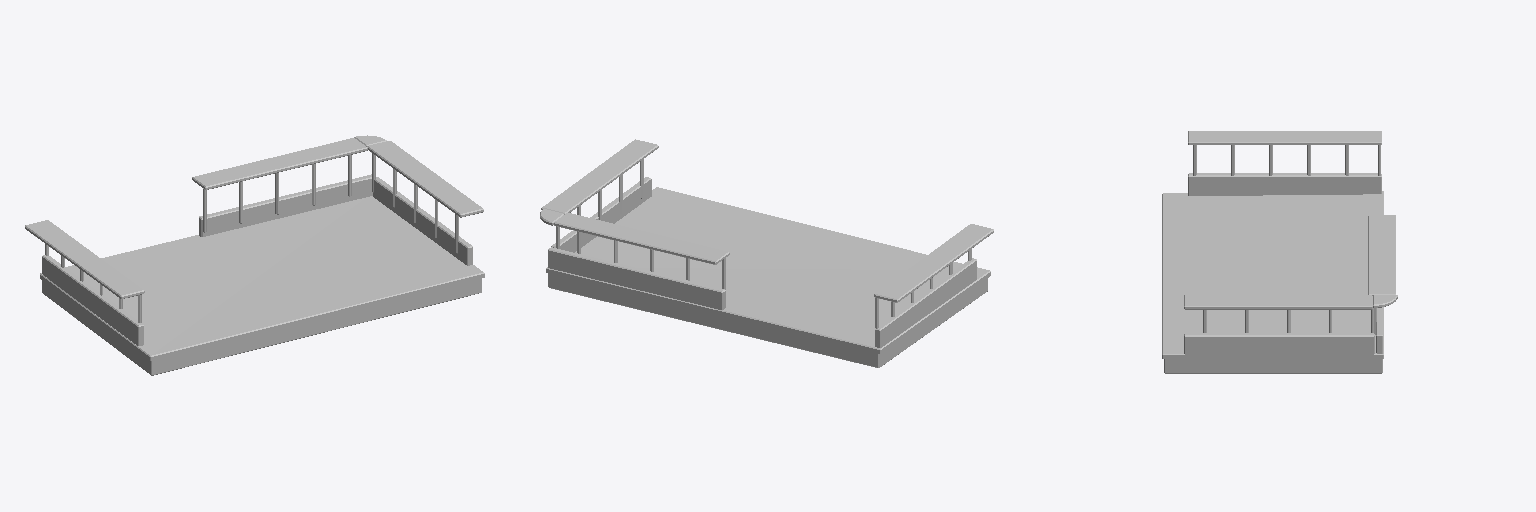
The model's file is Porch_Floor.obj.
3 renders of one model, left to right at view 1: azimuth 30°, elevation 25°; view 2: azimuth 150°, elevation 25°; view 3: azimuth 270°, elevation 25°, orthographic.
Visible parts, largest first — view 1: Porch_Floor_Cube.022; view 2: Porch_Floor_Cube.022; view 3: Porch_Floor_Cube.022.
Boxes of the visible parts, <box> form: Porch_Floor_Cube.022: <box>25,135,484,375</box>; Porch_Floor_Cube.022: <box>540,139,993,367</box>; Porch_Floor_Cube.022: <box>1162,131,1397,373</box>.
Bounding box in the file's own units: 7.34 × 1.48 × 4.14.